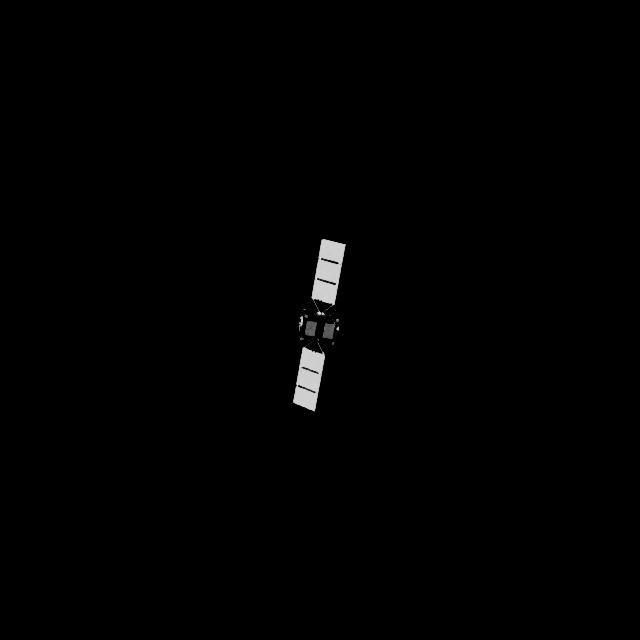medium_debris: (292, 240, 346, 413)
